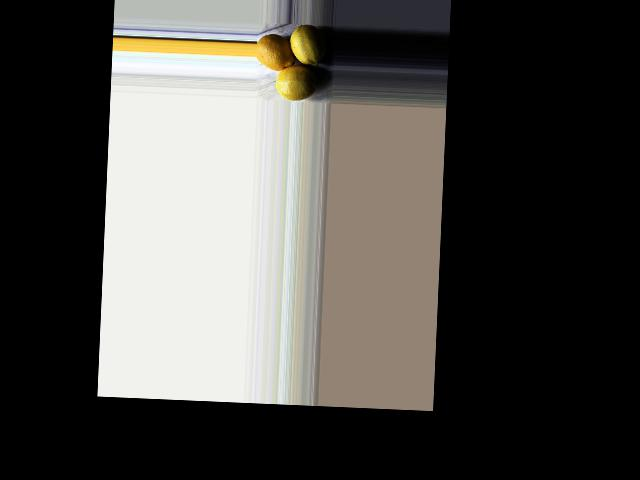lemon: (275, 67, 321, 102)
